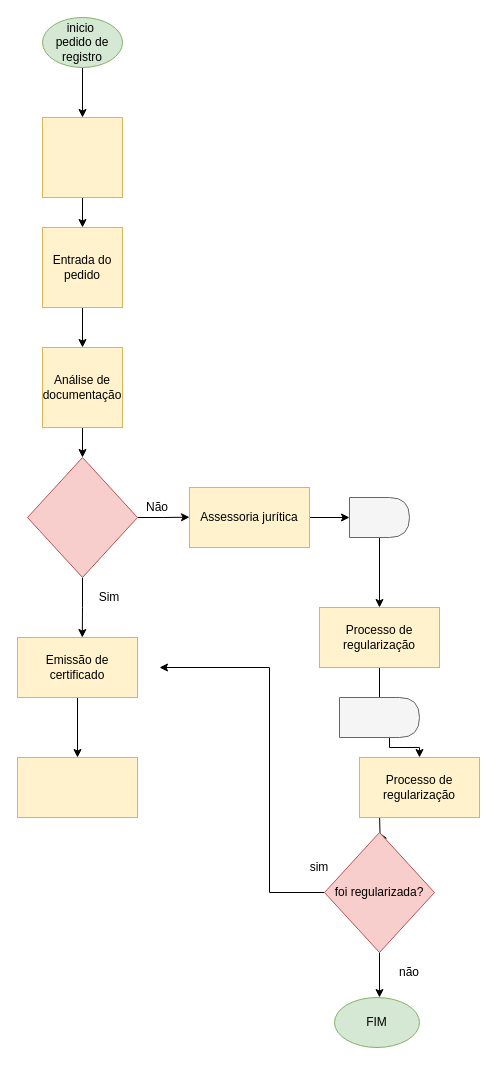
This 497x1065 diagram has some shape labels left out. The centre of each missing label's shape, as x and y in pixels:
"analise e emissão" goes at (82,157).
"encaminhamento ao processamento de dados" goes at (77,787).
"espera 48 hrs" goes at (379,517).
"Espera de 30 dias" goes at (379,717).
"Foi documentada?" goes at (82,517).
